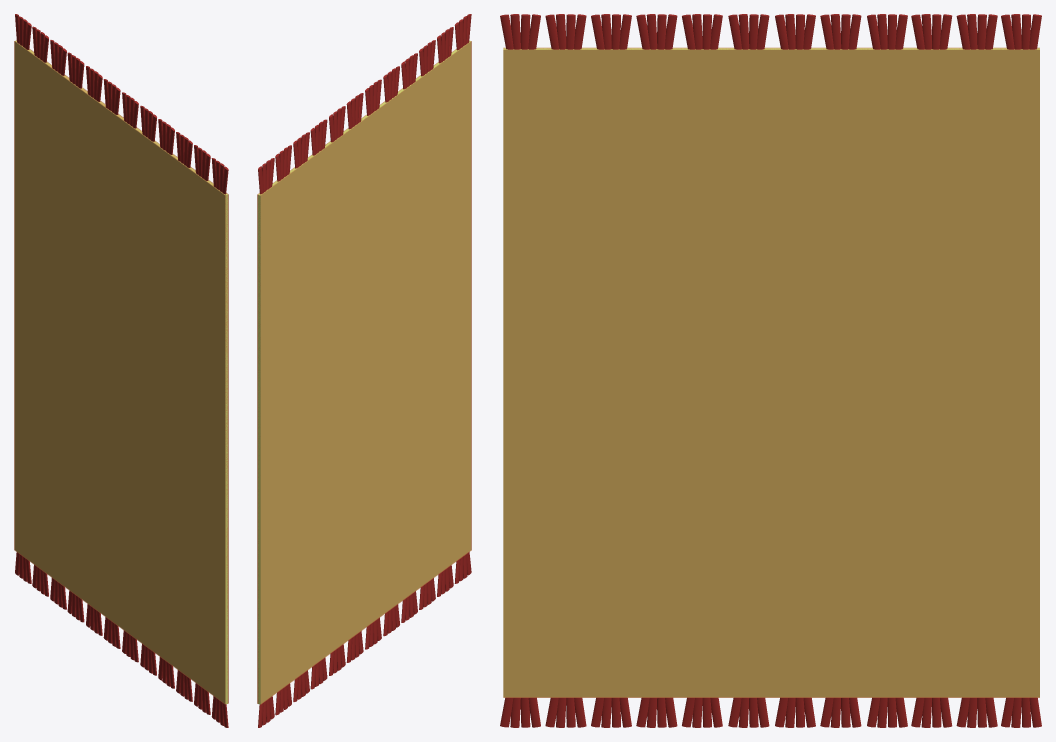
File: Carpet 1.fbx
3 views of the same model, side by side, from view 1: azimuth 30°, elevation 25°; view 2: azimuth 150°, elevation 25°; view 3: azimuth 270°, elevation 25° (orthographic). The views are drawn at different scales.
Parts seen in each view (by area): view 1: Cube, Cube.001, Cylinder.012, Cylinder.001; view 2: Cube, Cube.001, Cylinder.012, Cylinder.001; view 3: Cube, Cube.001, Cylinder.012, Cylinder.001.
Boxes of the visible parts, bbox=[...] form: Cube: bbox=[14, 41, 228, 704]; Cube.001: bbox=[15, 40, 227, 704]; Cylinder.012: bbox=[15, 14, 228, 194]; Cylinder.001: bbox=[15, 552, 228, 727]; Cube: bbox=[257, 41, 471, 704]; Cube.001: bbox=[258, 40, 470, 704]; Cylinder.012: bbox=[258, 14, 471, 194]; Cylinder.001: bbox=[258, 552, 471, 727]; Cube: bbox=[503, 47, 1039, 697]; Cube.001: bbox=[503, 48, 1039, 697]; Cylinder.012: bbox=[500, 14, 1041, 49]; Cylinder.001: bbox=[500, 697, 1041, 727].
Size of the model in its own units: 7.25 by 995 by 686.
